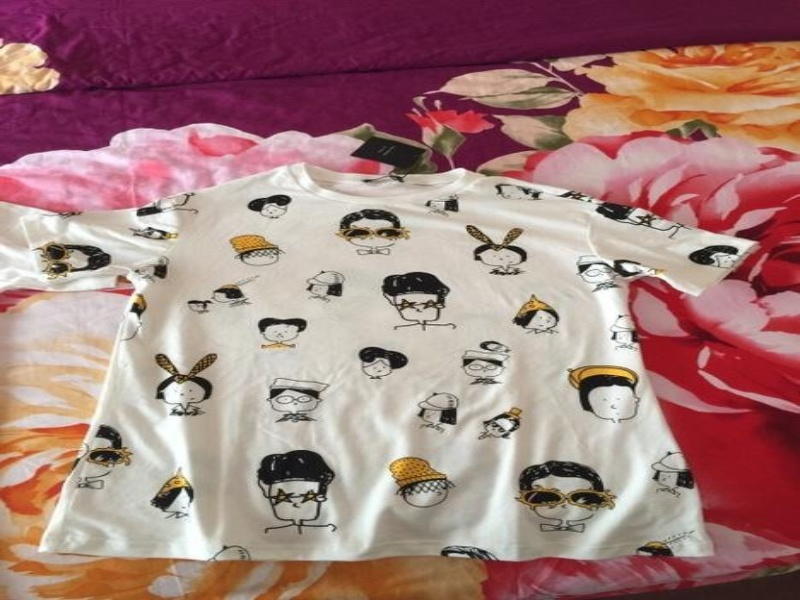short_sleeved_dress: (15, 159, 769, 567)
